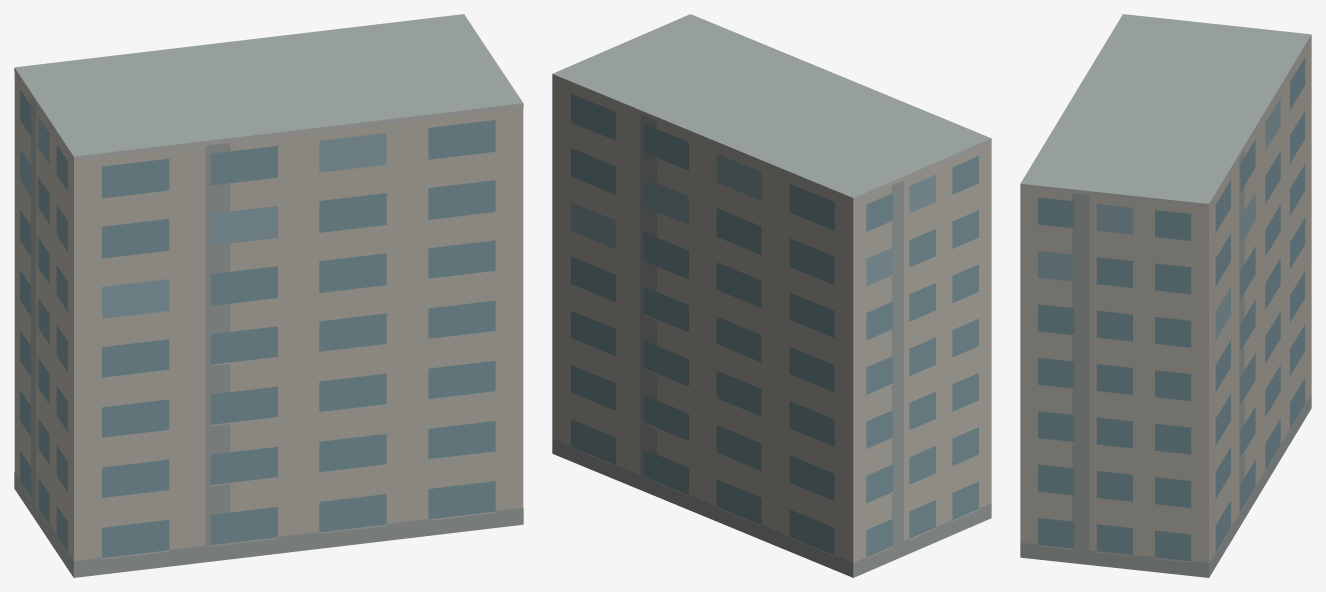
Rendered from survey-upis-32737233.glb.
3 renders of one model, left to right at view 1: azimuth 30°, elevation 25°; view 2: azimuth 150°, elevation 25°; view 3: azimuth 270°, elevation 25°, orthographic. The views are drawn at different scales.
Visible parts, largest first — view 1: survey-upis-32737233.tmp; view 2: survey-upis-32737233.tmp; view 3: survey-upis-32737233.tmp.
Part boxes in pixels (x1,y1,x2,y2): survey-upis-32737233.tmp: [14, 14, 523, 577]; survey-upis-32737233.tmp: [552, 14, 991, 577]; survey-upis-32737233.tmp: [1020, 14, 1311, 577].
Bounding box in the file's own units: 23.55 × 21.6 × 15.26.
